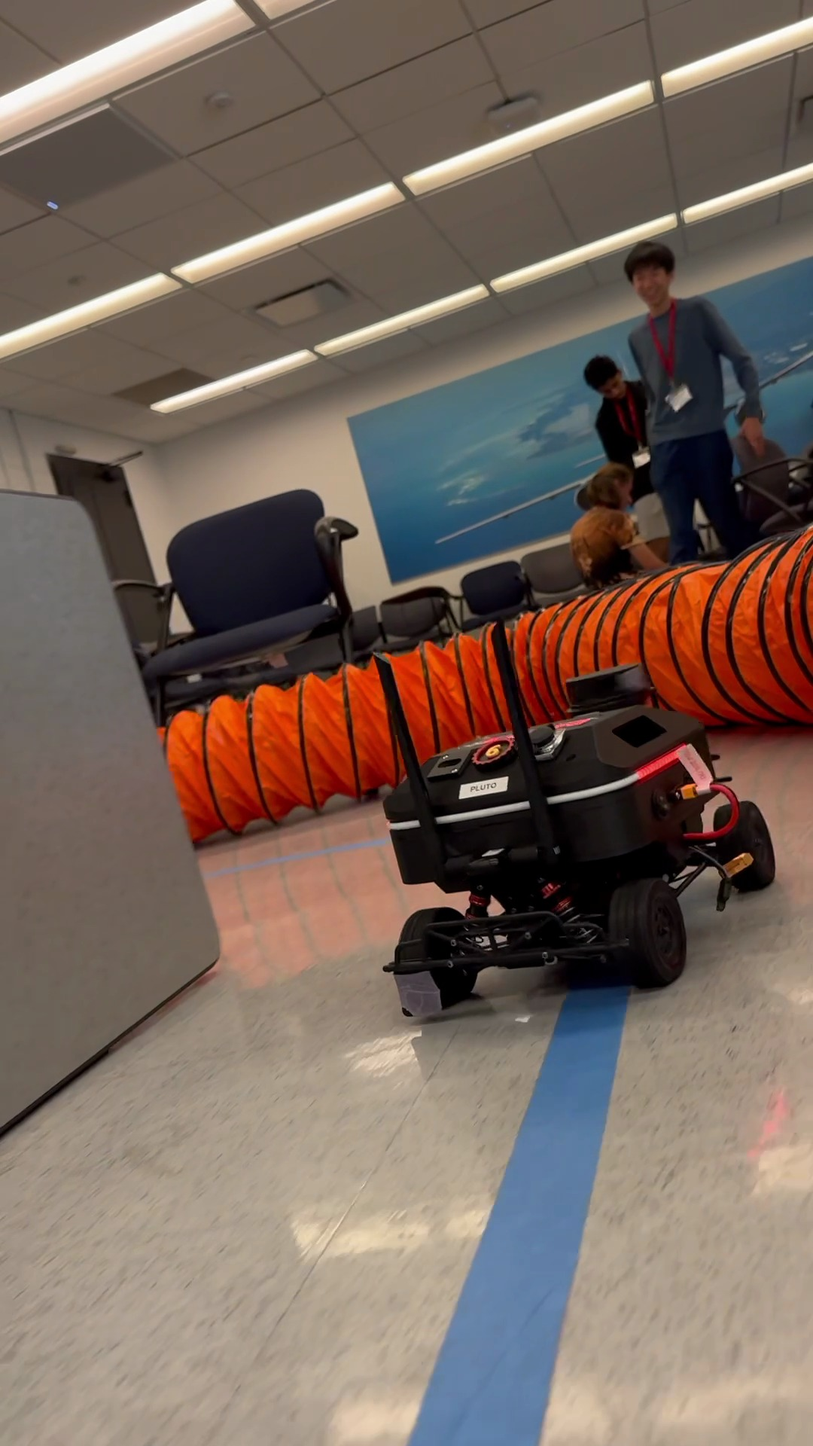racecar: (377, 622, 774, 1013)
